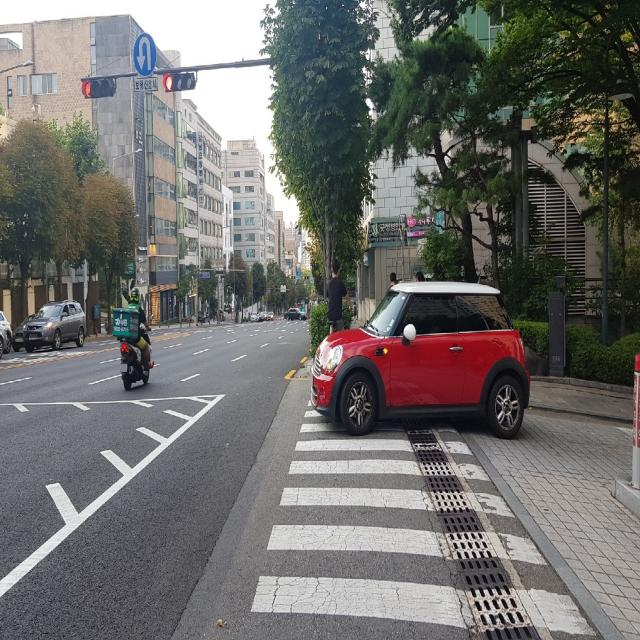횡단보도: (250, 400, 598, 636)
